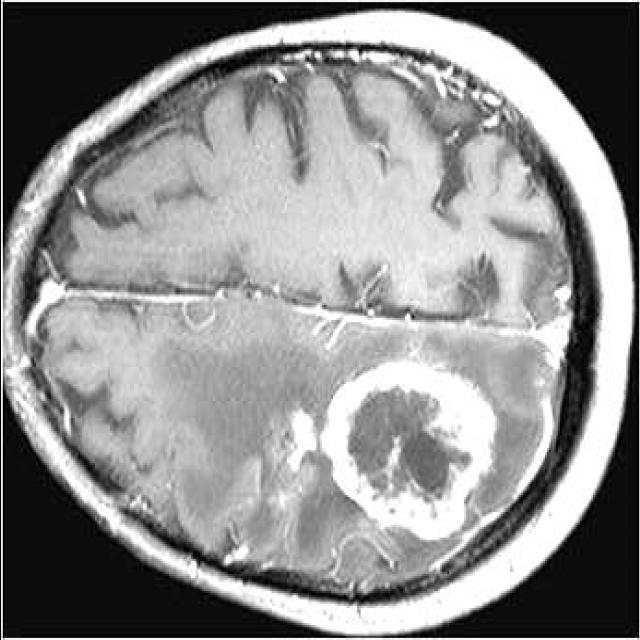tumor: (314, 358, 496, 546)
